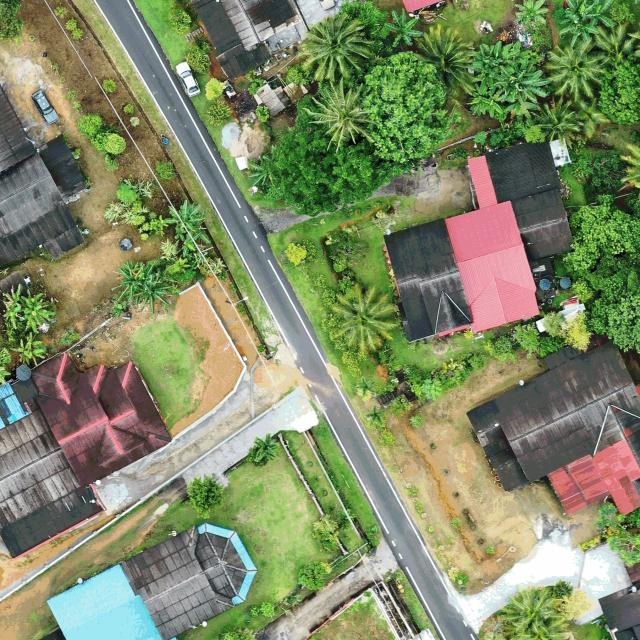Tree: (261, 128, 412, 218), (361, 50, 453, 160), (561, 191, 640, 274), (296, 78, 377, 153), (326, 282, 401, 359), (297, 12, 374, 83), (413, 23, 478, 98), (589, 267, 640, 356), (544, 37, 610, 104), (497, 586, 570, 640), (163, 200, 213, 258), (493, 56, 551, 105), (527, 97, 581, 149), (598, 60, 640, 126), (472, 38, 520, 86), (594, 20, 638, 68), (132, 270, 174, 314), (114, 260, 156, 303), (326, 229, 369, 267), (384, 8, 424, 48), (186, 474, 224, 514), (21, 289, 55, 333), (565, 0, 617, 28), (245, 430, 282, 468), (559, 14, 600, 48), (11, 332, 45, 365), (618, 142, 640, 191), (312, 514, 340, 552), (513, 0, 550, 28), (298, 560, 328, 592)
